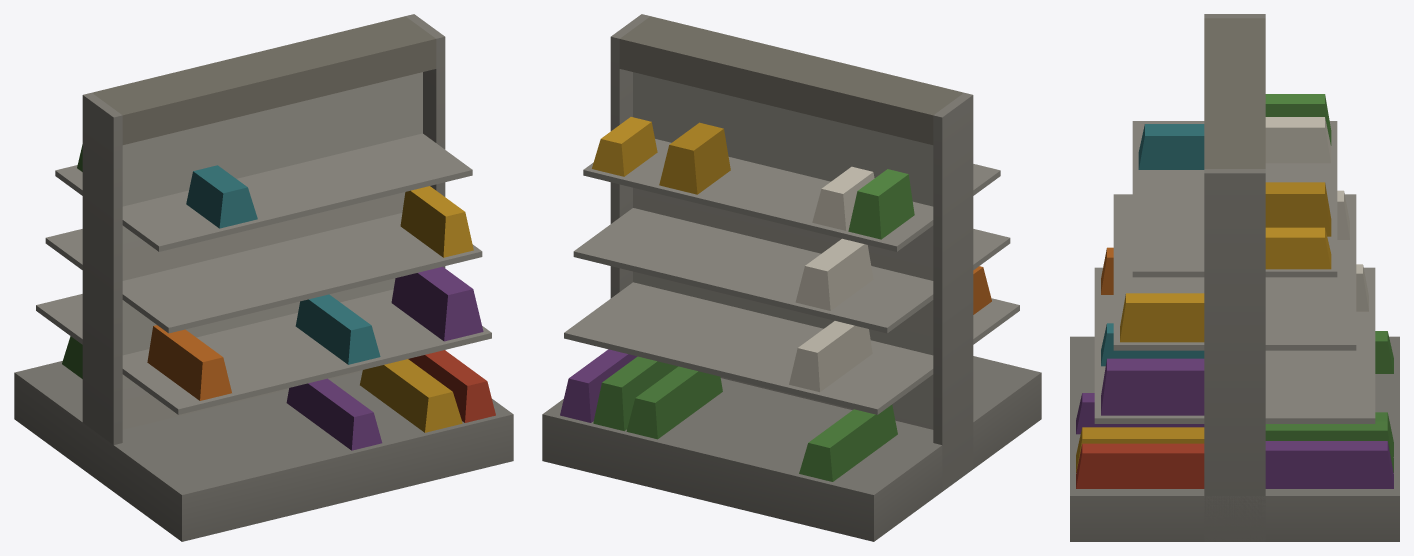
Rendered from shelf.gondola_snack.picked_over.glb.
The picture shows the model from 3 angles, left to right: view 1: azimuth 30°, elevation 25°; view 2: azimuth 150°, elevation 25°; view 3: azimuth 270°, elevation 25°; orthographic projection.
Visible parts, largest first — view 1: shelf_gondola_snack_picked_over; view 2: shelf_gondola_snack_picked_over; view 3: shelf_gondola_snack_picked_over.
Part boxes in pixels (x1=…): shelf_gondola_snack_picked_over: x1=14, y1=14, x2=513, y2=541; shelf_gondola_snack_picked_over: x1=542, y1=14, x2=1041, y2=541; shelf_gondola_snack_picked_over: x1=1070, y1=14, x2=1399, y2=541.
Size of what is drawn, in the model's own units: 1.85 by 2 by 1.62.
